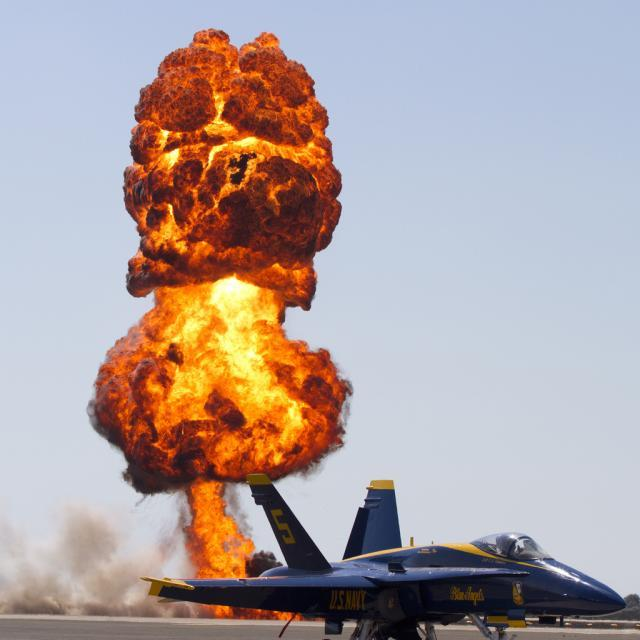Fire: (153, 74, 306, 260), (121, 313, 302, 463), (186, 477, 239, 576)
